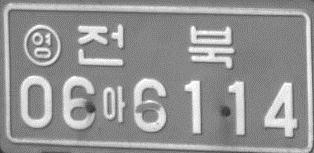0: (19, 74, 53, 128)
1: (175, 79, 212, 135), (219, 80, 255, 136)
4: (263, 81, 298, 137)
6: (60, 74, 96, 131), (132, 77, 167, 132)
아: (100, 84, 126, 124)
영: (22, 24, 61, 66)
전북_D: (76, 23, 235, 70)
